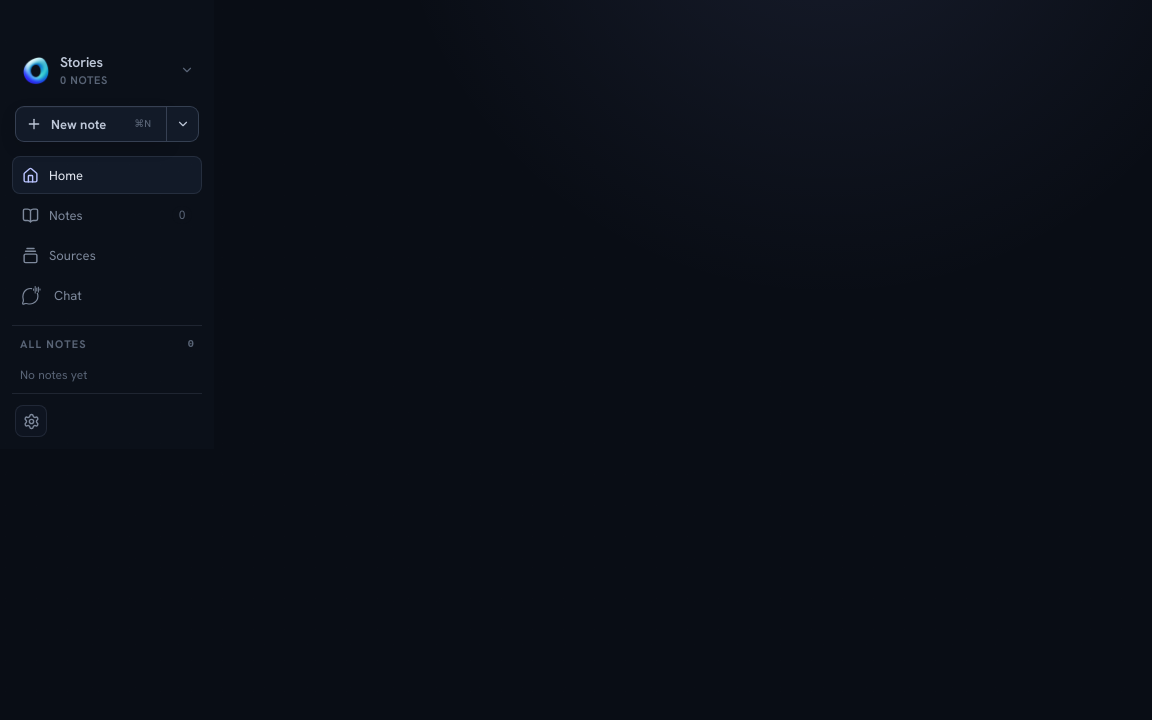
it: Sidebar generate composer › makes disabled Space context visible and requires an explicit generation opt-in
Click the button named "Generate options" at (183, 124), box [167,106,199,142]
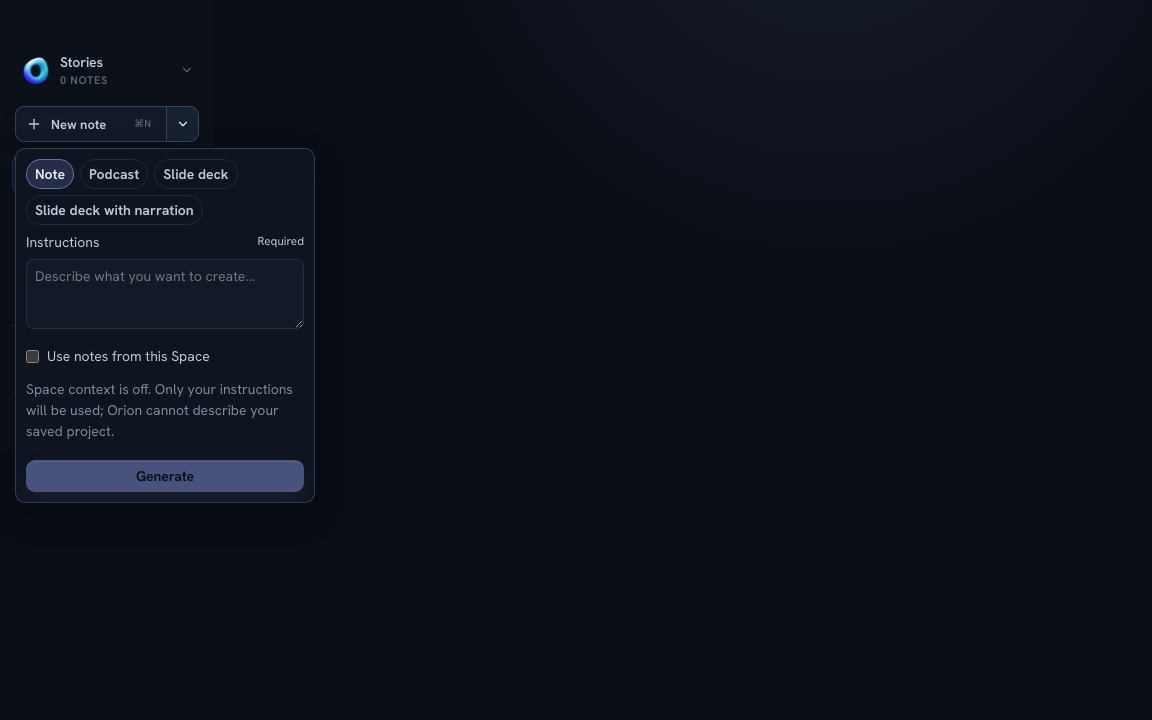
expect the checkbox labelled "Use notes from this Space" is not checked: met
expect the text "Space context is off" is shown: met, box [26,380,293,440]
expect the button "Generate" is disabled: met, box [26,460,304,492]
Click the checkbox labelled "Use notes from this Space" at (32, 356), box [26,350,39,362]
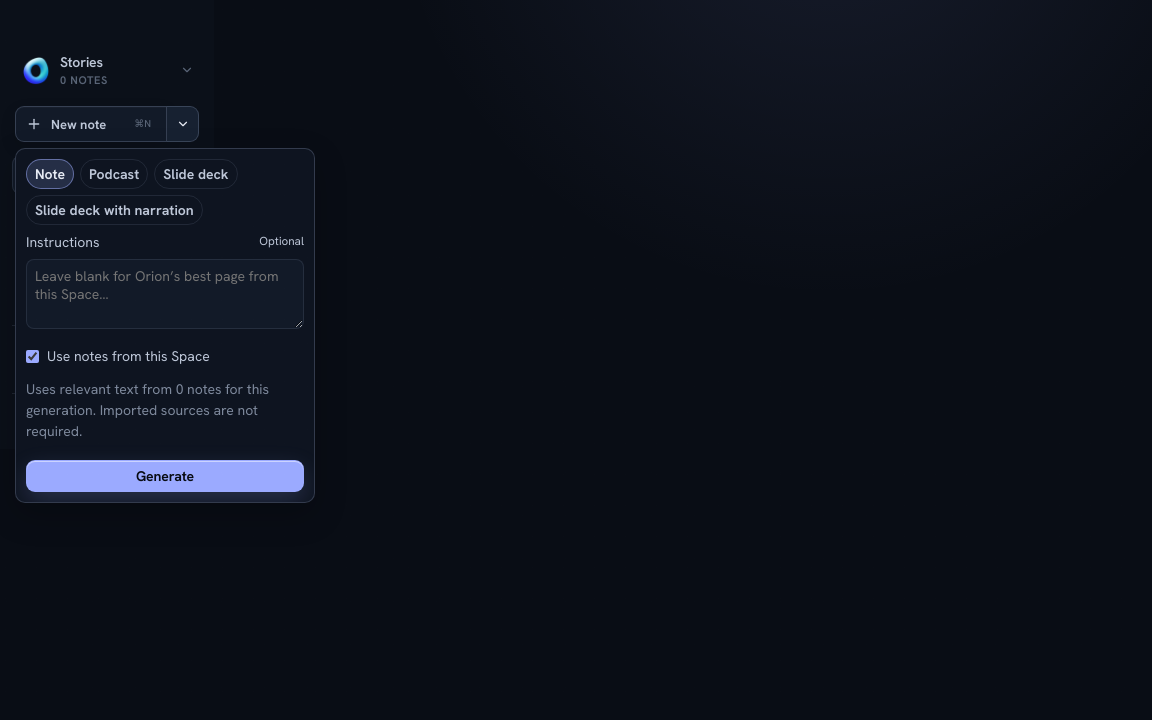
Click the button "Generate" at (165, 476), box [26,460,304,492]
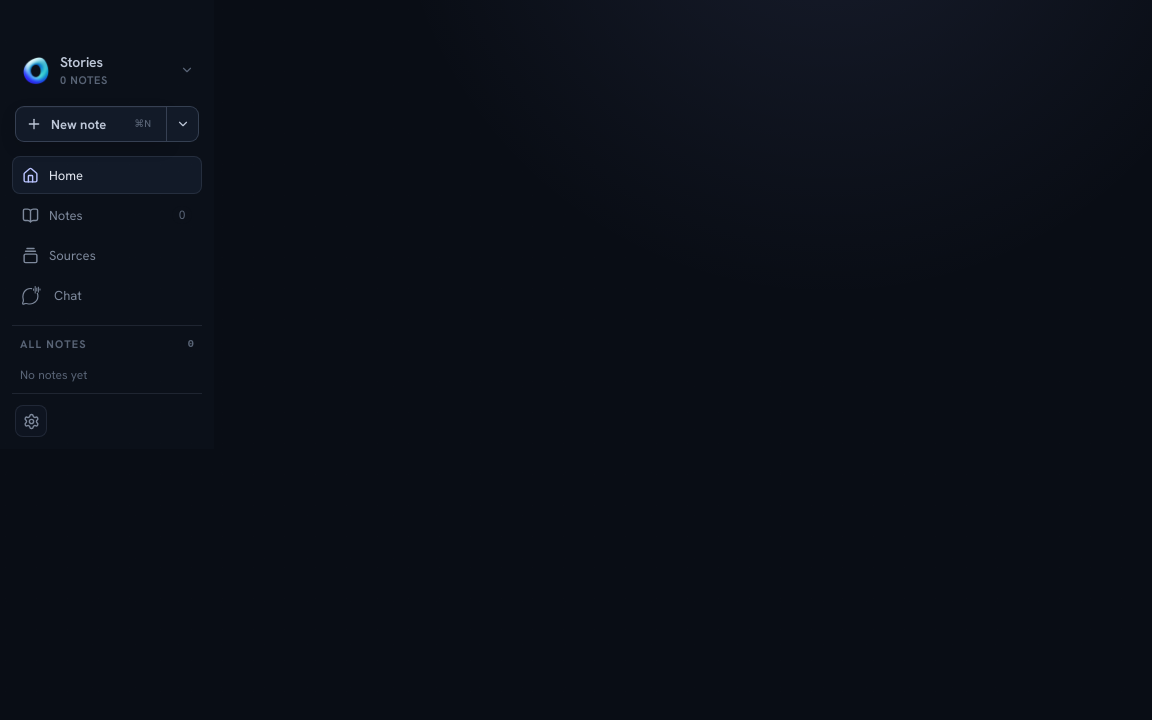
Click the button named "Generate options" at (183, 124), box [167,106,199,142]
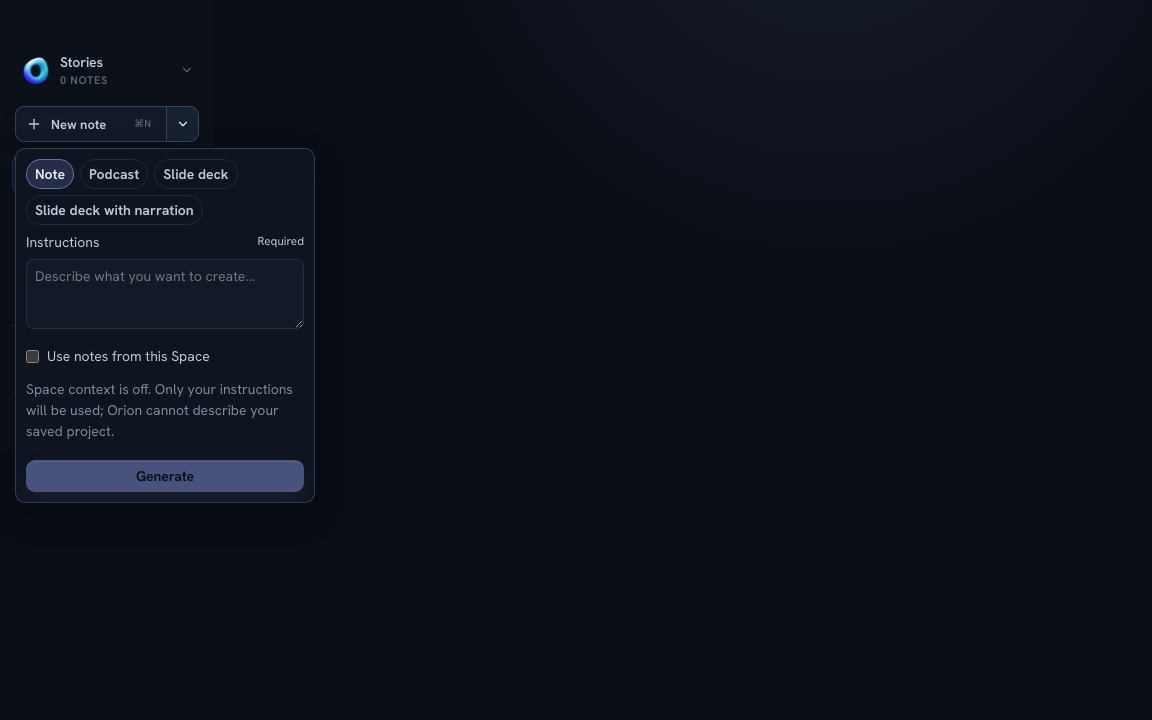
expect the checkbox labelled "Use notes from this Space" is not checked: met, box [26,350,39,362]
